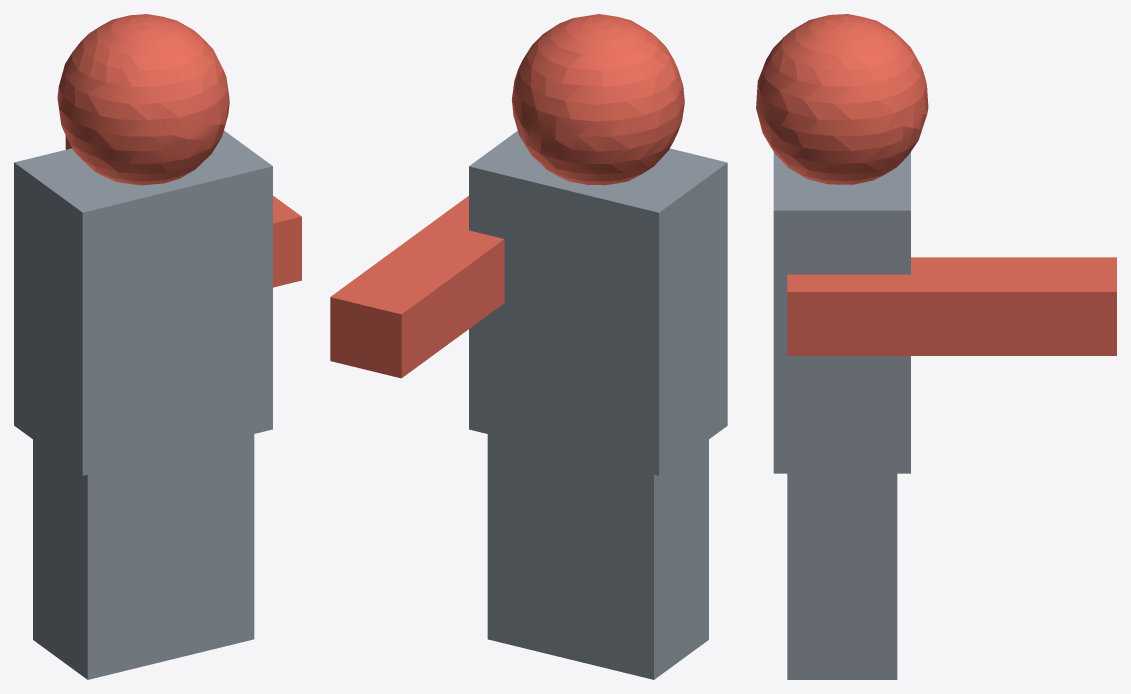
Rendered from SU_ZapalGrenadier_LOD1.glb.
3 views of the same model, side by side, from view 1: azimuth 30°, elevation 25°; view 2: azimuth 150°, elevation 25°; view 3: azimuth 270°, elevation 25° (orthographic).
Parts seen in each view (by area): view 1: Head; view 2: Head; view 3: Head.
Boxes of the visible parts, box(x1,y1,x2,y2) form: Head: box(14, 14, 301, 679); Head: box(330, 14, 727, 679); Head: box(756, 14, 1116, 679).
Size of the model in its own units: 66.5 by 174 by 91.99.
